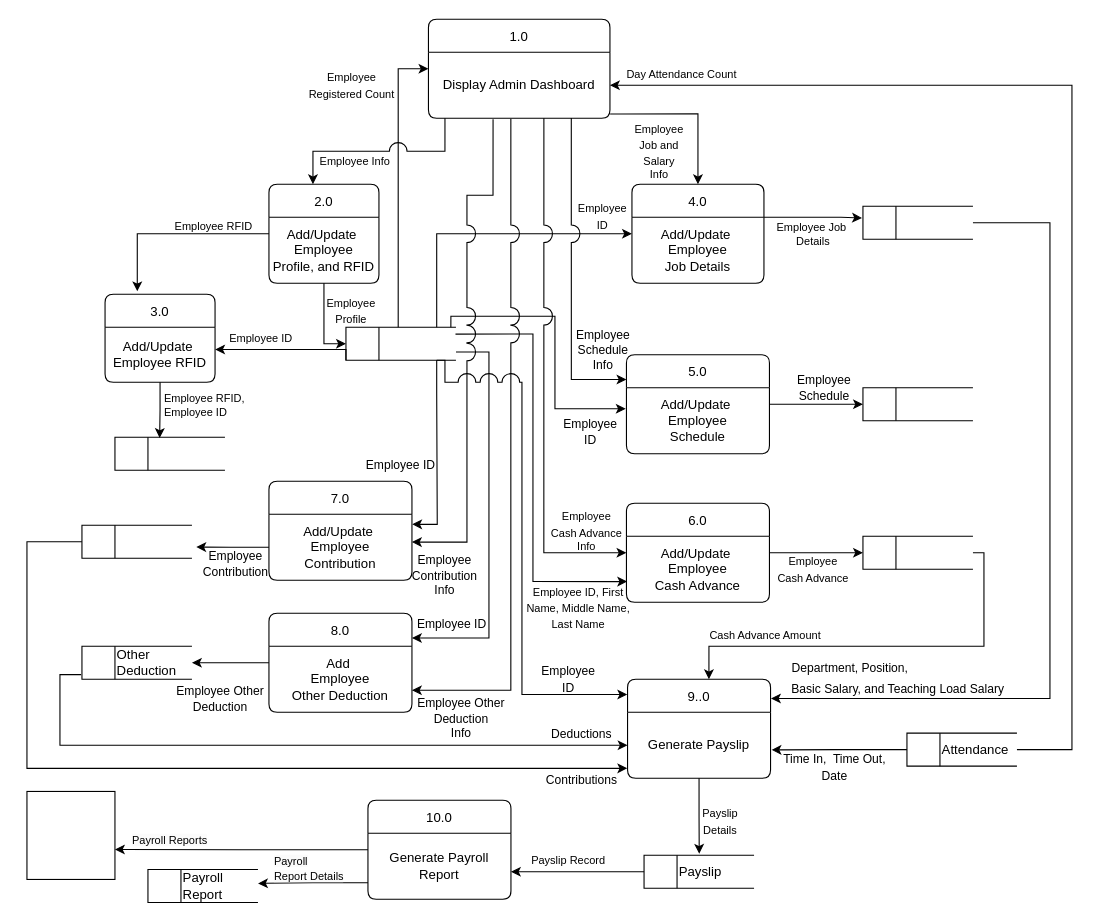
Some shapes in this 1100 by 922 pixel diagram are drawn without their labels. The shapes that lost their labels are listed below. From the top down, each one's box as (x1, y1, x2, y2) in pixels, then its label:
(862, 205, 973, 239): Job
(345, 326, 456, 360): Employee
(862, 387, 973, 421): Schedule
(114, 436, 225, 470): RFID
(81, 524, 192, 558): contribution
(862, 535, 973, 569): Cash Advance
(26, 790, 115, 879): Admin
